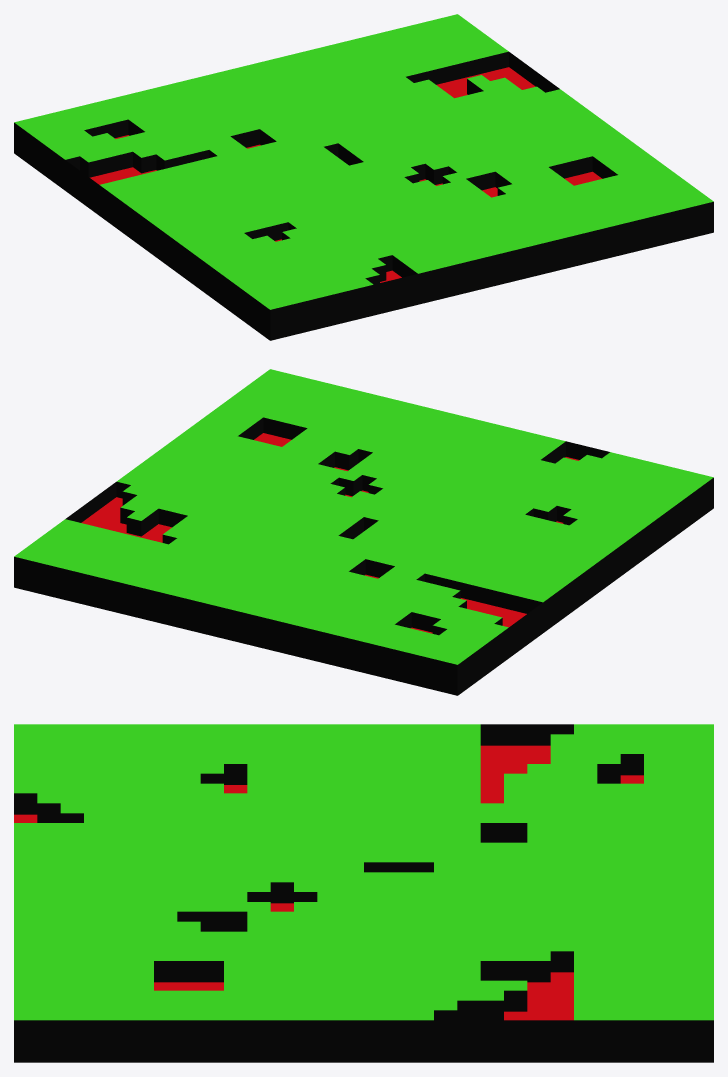
Rendered from 3d_map.glb.
3 renders of one model, top to bottom at view 1: azimuth 30°, elevation 25°; view 2: azimuth 150°, elevation 25°; view 3: azimuth 270°, elevation 25°, orthographic. The views are drawn at different scales.
Parts seen in each view (by area): view 1: Cube; view 2: Cube; view 3: Cube.
Boxes of the visible parts, x1,y1,x2,y2 form: Cube: (14, 14, 713, 340); Cube: (14, 369, 713, 695); Cube: (14, 724, 713, 1062).
Bounding box in the file's own units: 30 × 2 × 30.
